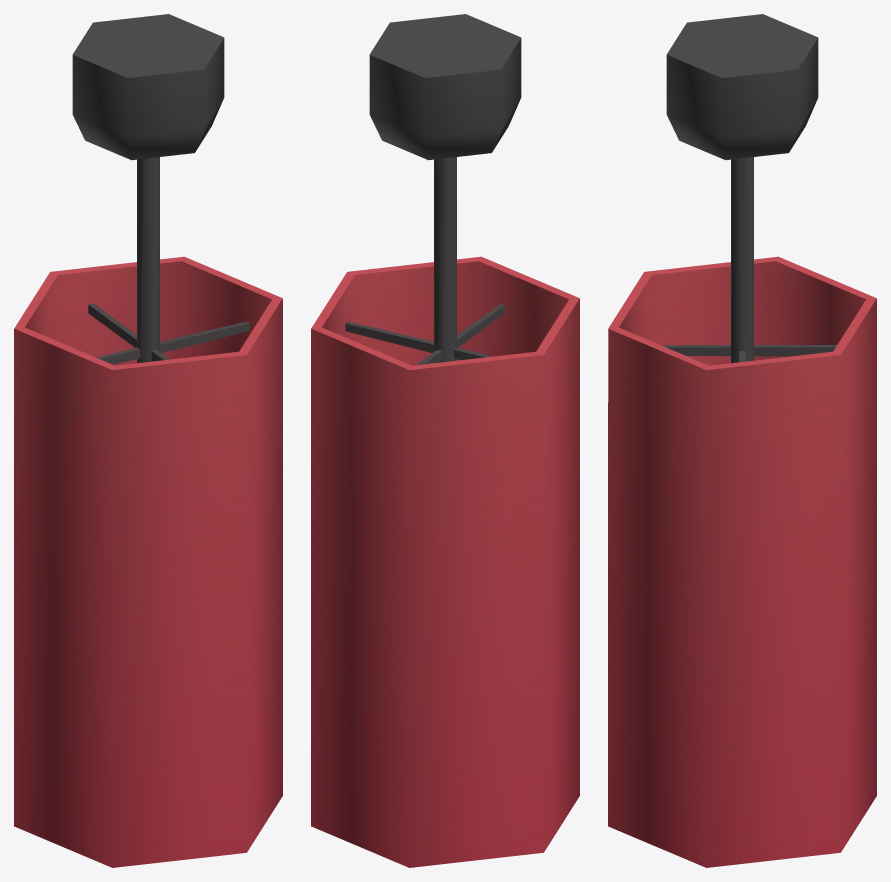
File: SM_Lamp_Long_1_03.fbx
3 renders of one model, left to right at view 1: azimuth 30°, elevation 25°; view 2: azimuth 150°, elevation 25°; view 3: azimuth 270°, elevation 25°, orthographic.
Parts seen in each view (by area): view 1: SM_Lamp_Long_1_03; view 2: SM_Lamp_Long_1_03; view 3: SM_Lamp_Long_1_03.
Boxes of the visible parts, x1,y1,x2,y2 form: SM_Lamp_Long_1_03: (14, 14, 282, 867); SM_Lamp_Long_1_03: (311, 14, 579, 867); SM_Lamp_Long_1_03: (608, 14, 876, 867).
Size of the model in its own units: 25.69 by 80.7 by 25.7.
